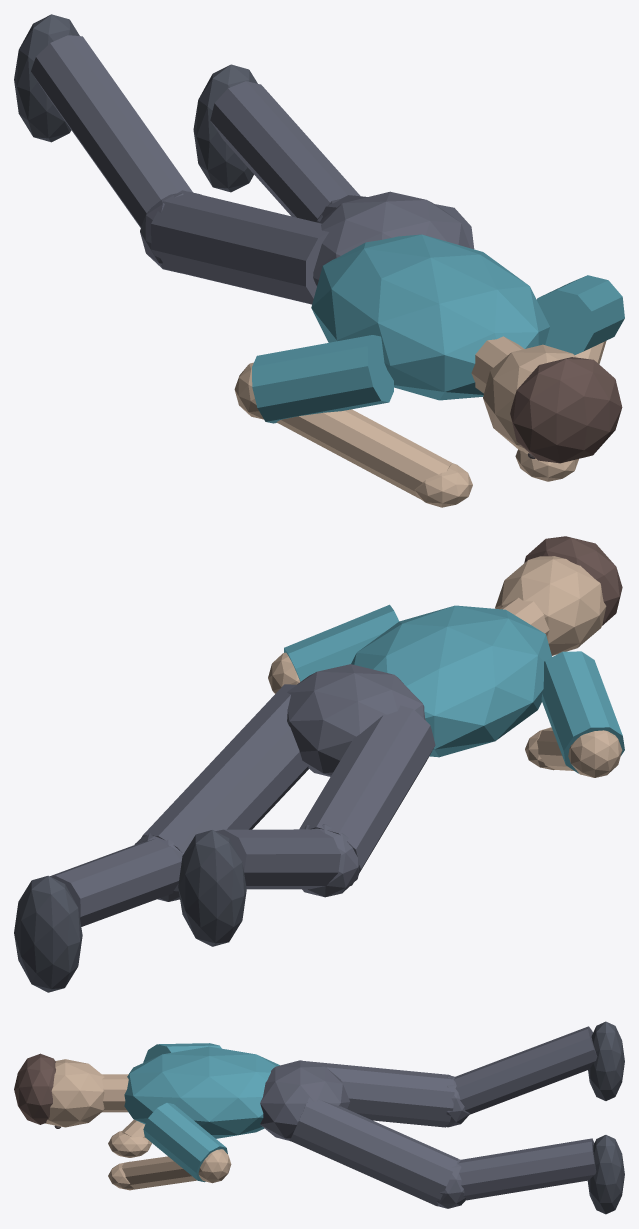
The picture shows the model from 3 angles, top to bottom: view 1: azimuth 30°, elevation 25°; view 2: azimuth 150°, elevation 25°; view 3: azimuth 270°, elevation 25°; orthographic projection. The views are drawn at different scales.
Visible parts, largest first — view 1: world; view 2: world; view 3: world.
Part boxes in pixels (left/top/right/bottom): world: left=14, top=14, right=624, bottom=507; world: left=14, top=536, right=624, bottom=992; world: left=14, top=1021, right=624, bottom=1214.
Size of the model in its own units: 0.93 by 0.52 by 2.08.
